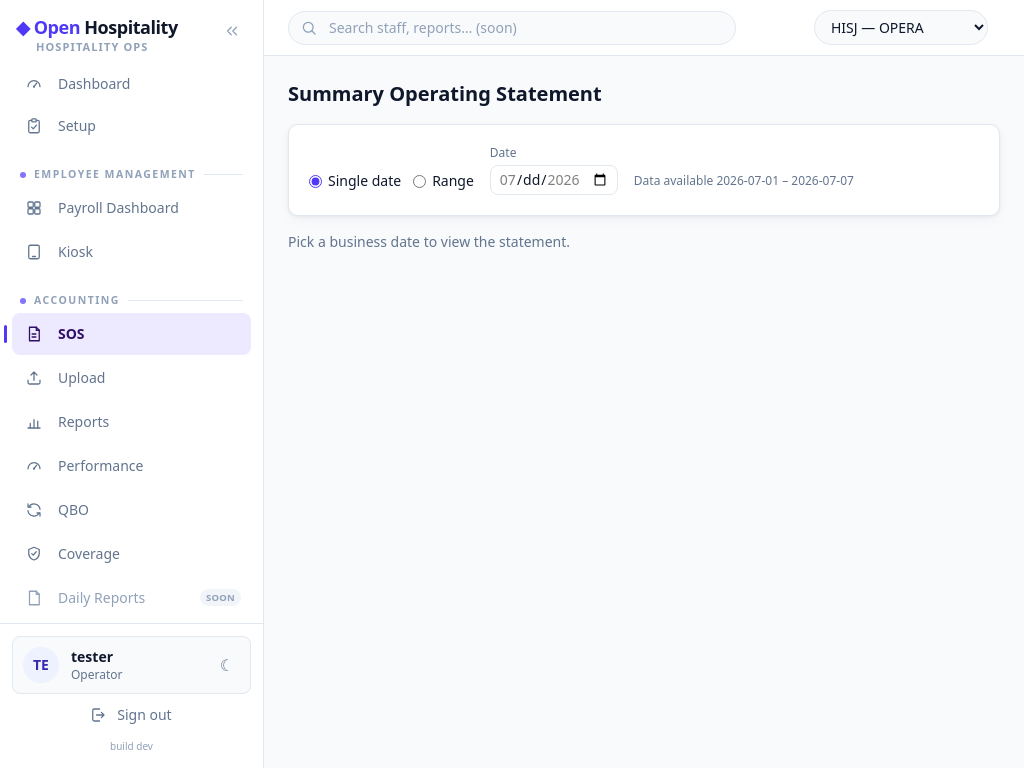
Scenario: SosPage › opens the drill panel on line click and reconciles the transaction sum
Select "HISJ — OPERA" in the dropdown named "Active property" at (901, 28), box [814,10,988,45]
Type "2026-07-07" into the date field labelled "Date".
click(554, 180); type("2026-07-07")  # box [490,165,618,195]
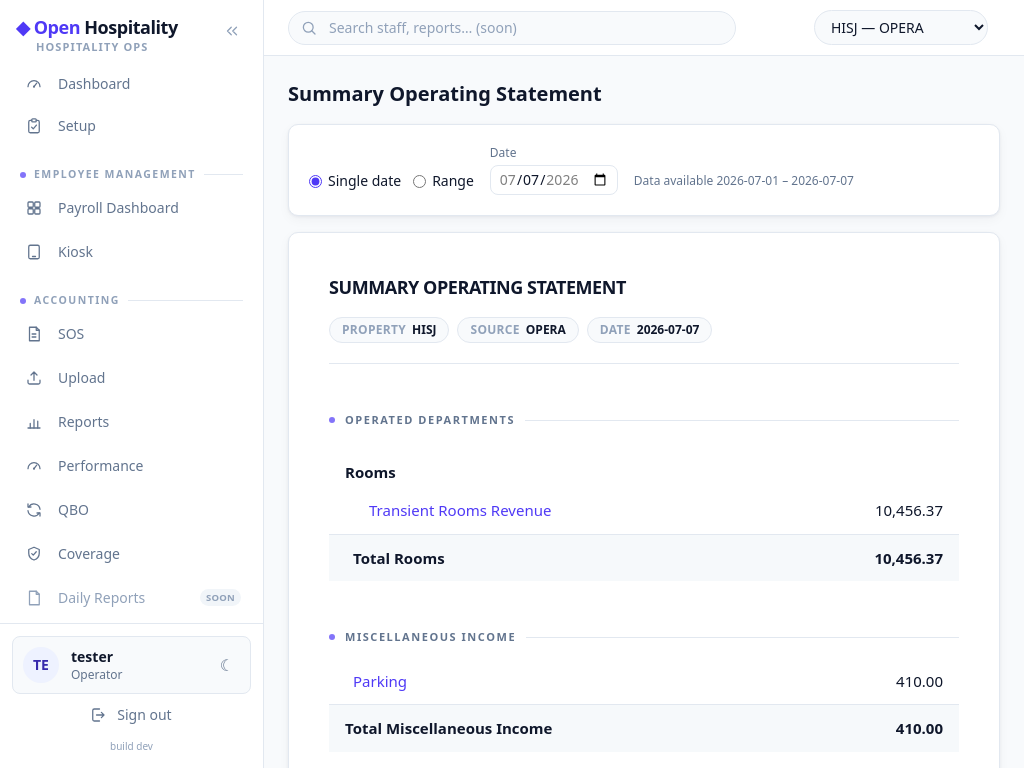
Click the button "Parking".
click(380, 681)  # box [353,670,407,692]
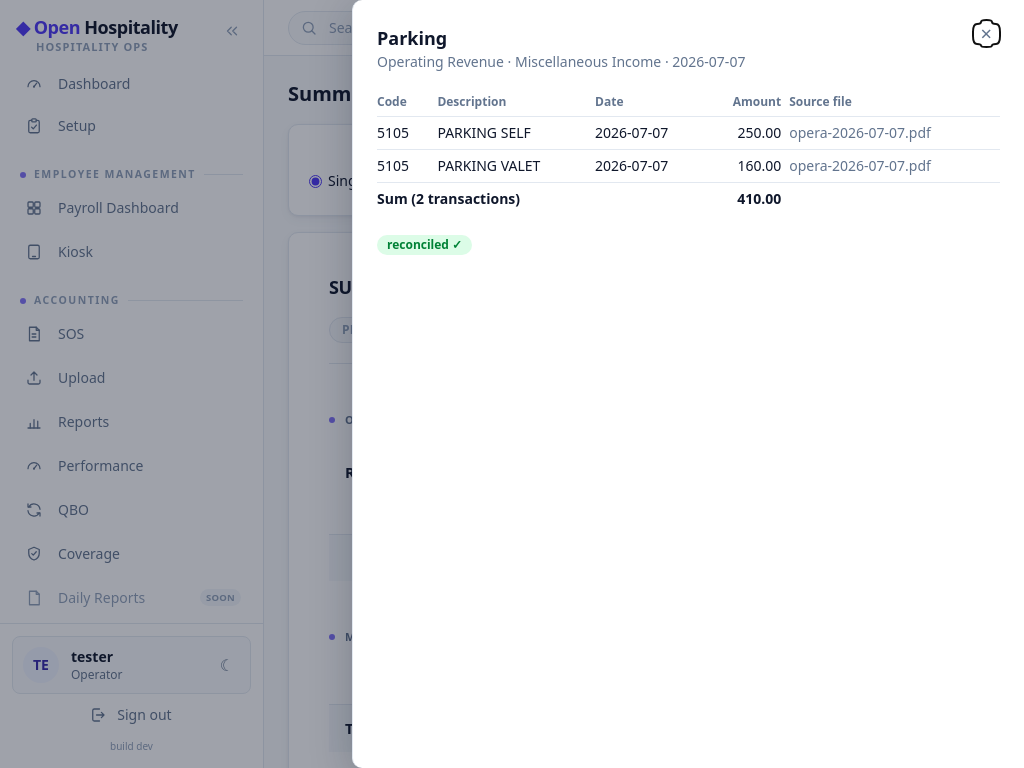
Check: the text "5105" is shown 2 times, box [377,116,437,150]; [377,150,437,182]
Check: the text "PARKING SELF" is shown, box [437,116,595,150]
Check: the text "250.00" is shown, box [712,116,789,150]
Click the button named "Close".
click(986, 34)  # box [972,24,1000,44]
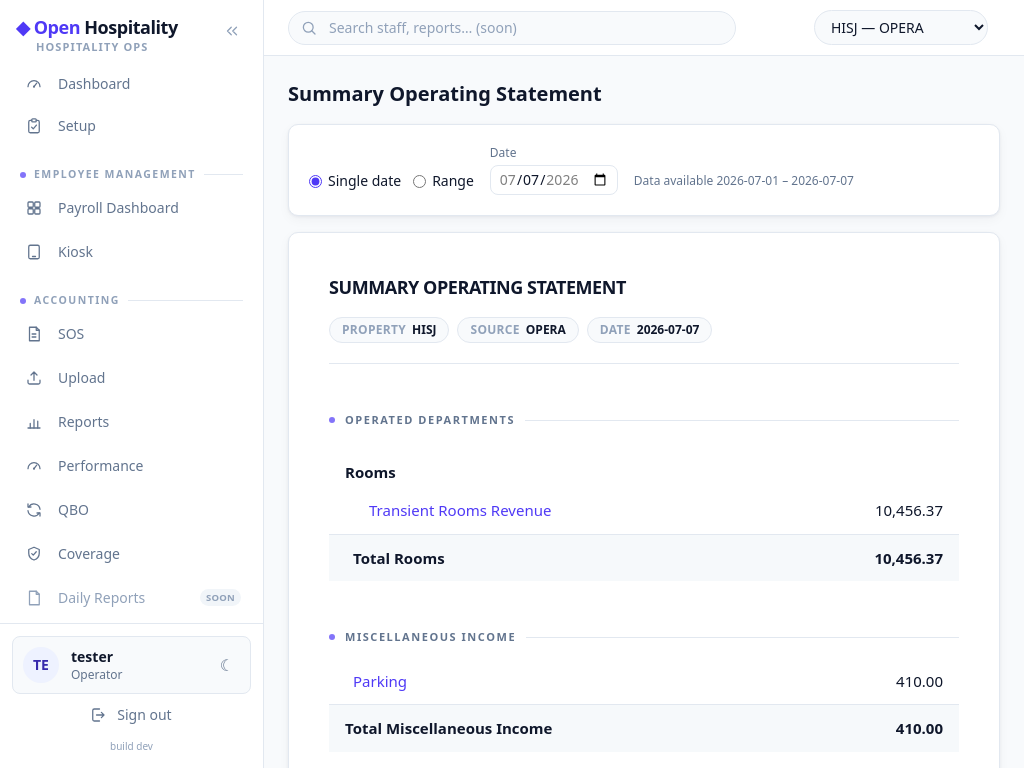
Check: the dialog is gone
